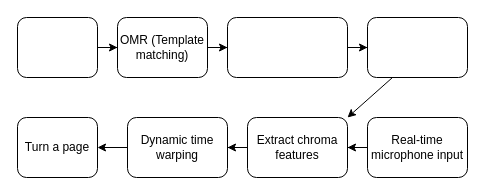
The diagram is 485 pixels wide and 195 high, and some of its shapes have lost their labels. The shapes that lost their labels are listed below. From the top down, each one's centre as x and y in pixels, then its label:
(57,47): Images of music score
(287,47): Midi file (Accessible by users to improve accuracy)
(417,47): .wav file as reference audio
